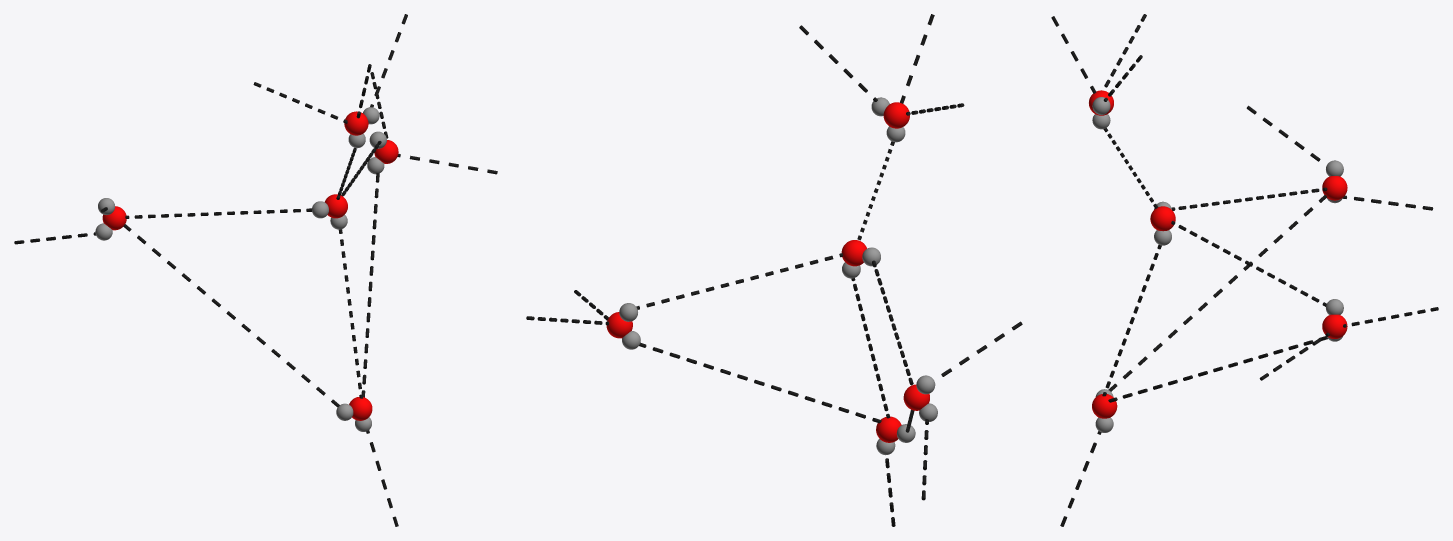
The model's file is jingti1.FBX.
The picture shows the model from 3 angles, left to right: view 1: azimuth 30°, elevation 25°; view 2: azimuth 150°, elevation 25°; view 3: azimuth 270°, elevation 25°; orthographic projection. The views are drawn at different scales.
Parts seen in each view (by area): view 1: hui (×2); view 2: hui; view 3: hui (×4), hong (×4).
Boxes of the visible parts, <box> form: hui (×2): <box>123,173,379,407</box>; hui: <box>639,342,881,423</box>; hui (×4): <box>1108,187,1327,402</box>; hong (×4): <box>1092,176,1347,418</box>.
Size of the model in its own units: 134 by 151 by 107.
